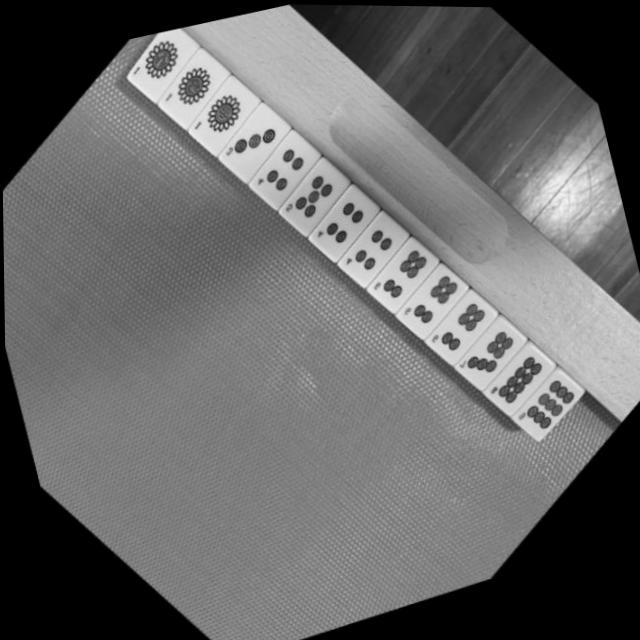sd1: (144, 42, 243, 138), (176, 71, 271, 164), (117, 22, 212, 111)
sd3: (205, 97, 304, 194)
sd4: (236, 126, 332, 220), (297, 180, 391, 274), (326, 209, 419, 300)
sd5: (267, 153, 362, 247)
sd6: (415, 288, 507, 378), (386, 261, 478, 351), (357, 235, 449, 325)
sd7: (445, 316, 535, 404)
sd8: (474, 342, 563, 429)
sd9: (503, 367, 592, 455)
